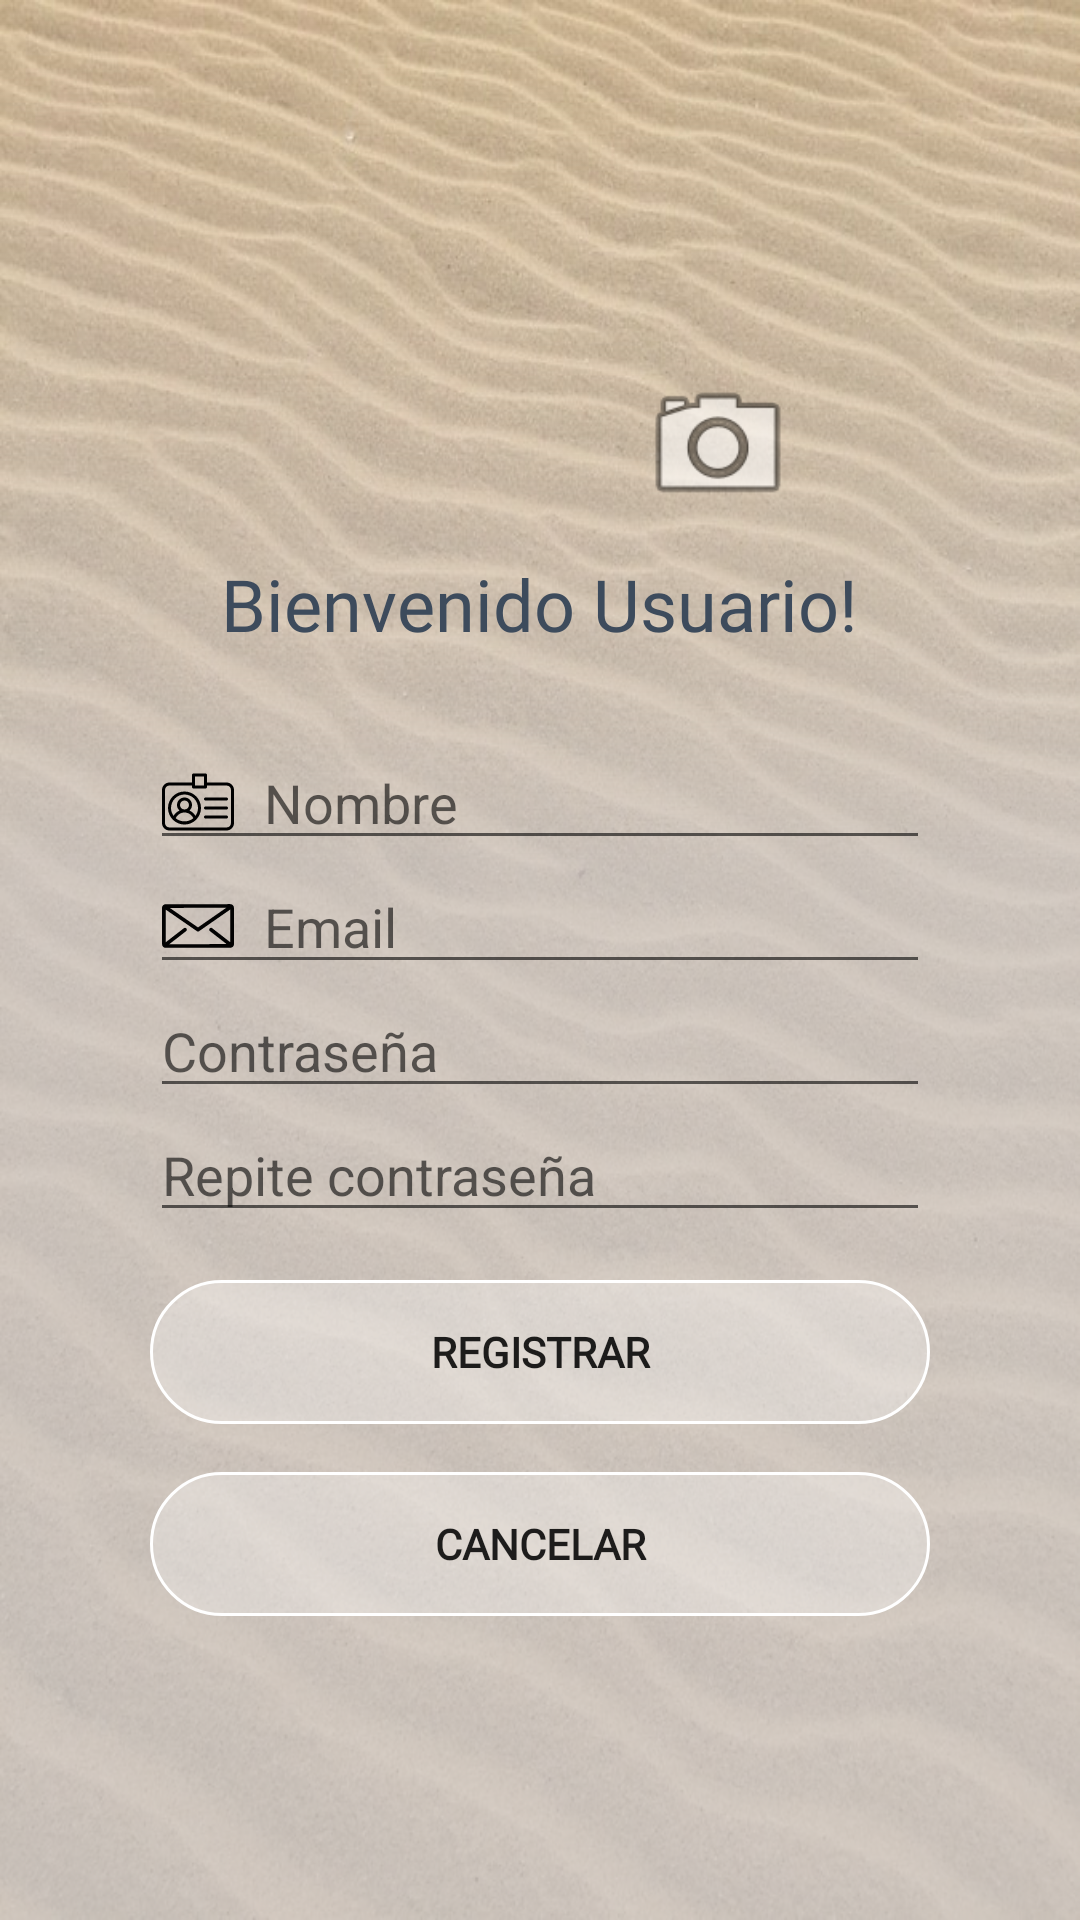

Icon click points for this 1080px x 1920px phone screenshot, format point (x, y):
camera: point (719, 448)
